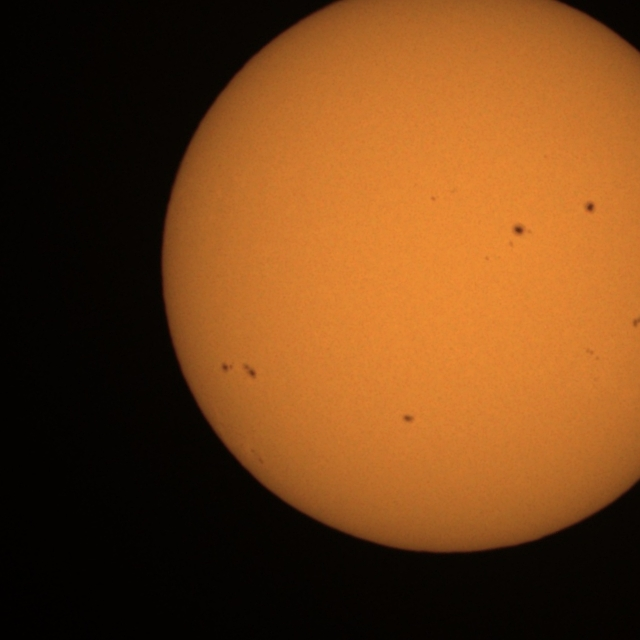sunspot: (219, 360, 257, 380), (510, 222, 533, 239), (242, 362, 258, 380), (250, 448, 265, 466), (584, 346, 600, 362), (220, 361, 234, 374), (584, 200, 596, 215), (402, 413, 416, 424), (631, 316, 640, 330), (430, 194, 439, 203)
